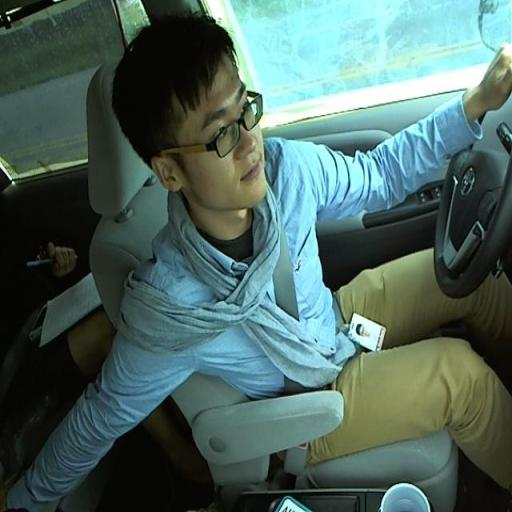turning: (101, 15, 512, 425)
